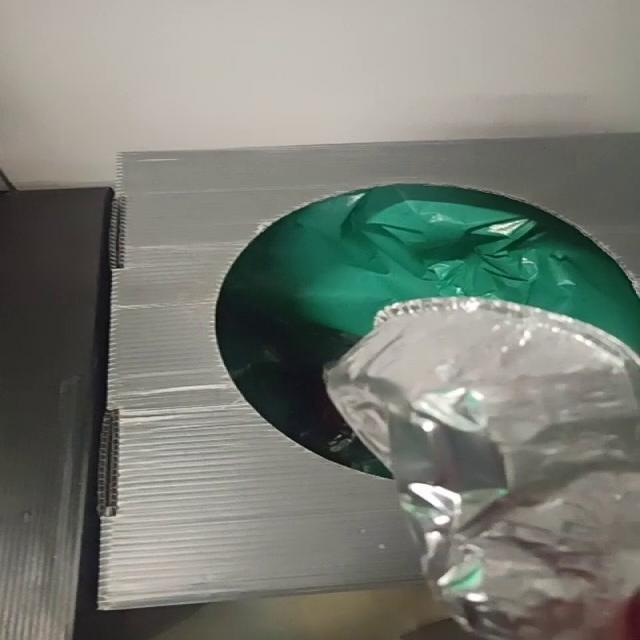bin: (100, 134, 637, 610)
metal: (327, 298, 639, 640)
